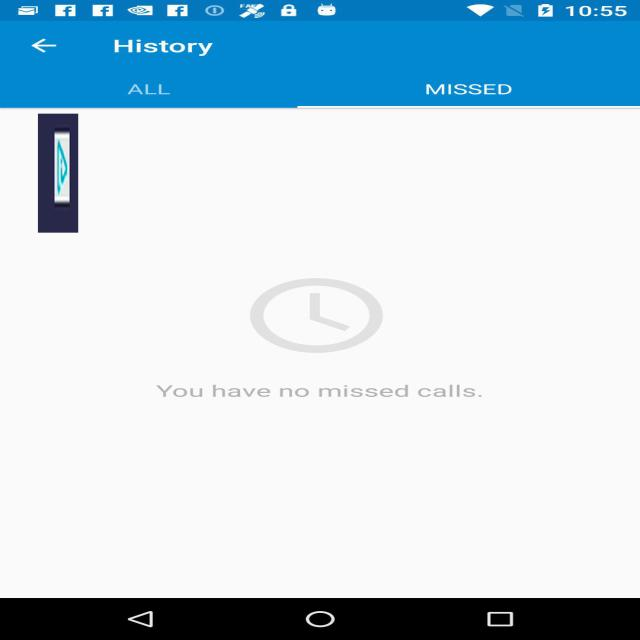sneaking: (38, 114, 78, 232)
